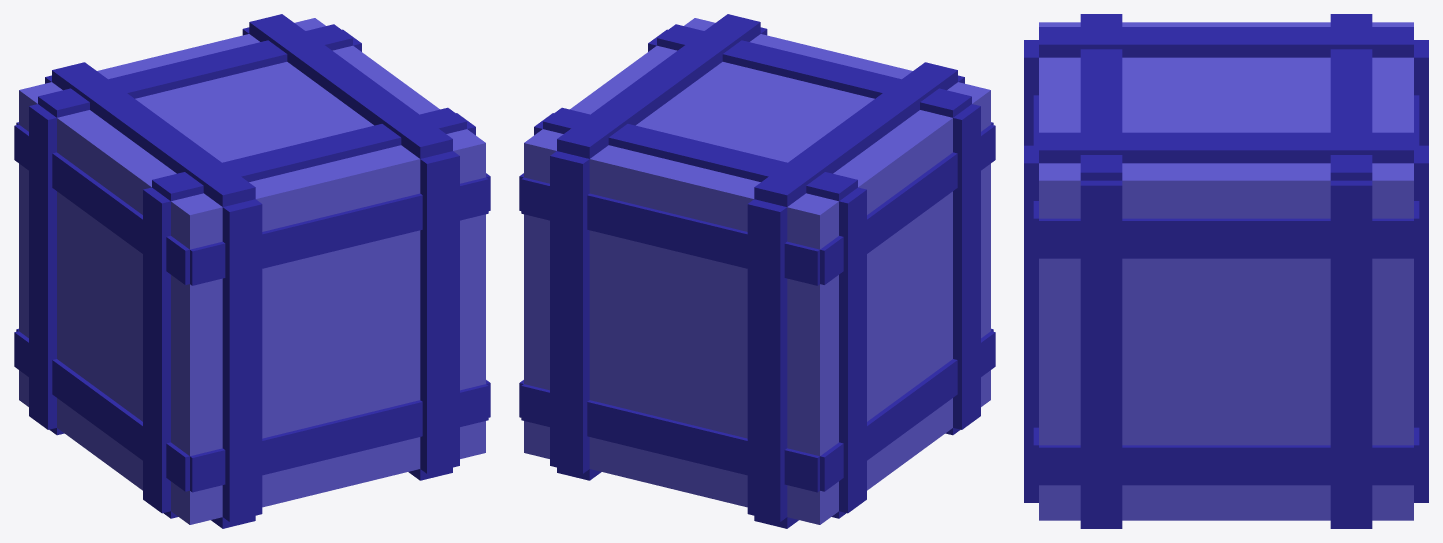
Rendered from Package_2.fbx.
The picture shows the model from 3 angles, left to right: view 1: azimuth 30°, elevation 25°; view 2: azimuth 150°, elevation 25°; view 3: azimuth 270°, elevation 25°; orthographic projection. The views are drawn at different scales.
Parts seen in each view (by area): view 1: pCube7; view 2: pCube7; view 3: pCube7.
Part boxes in pixels (bbox=[...]): pCube7: bbox=[14, 14, 490, 528]; pCube7: bbox=[519, 14, 995, 528]; pCube7: bbox=[1024, 14, 1428, 528].
Bounding box in the file's own units: 2.12 × 2.15 × 2.16.
